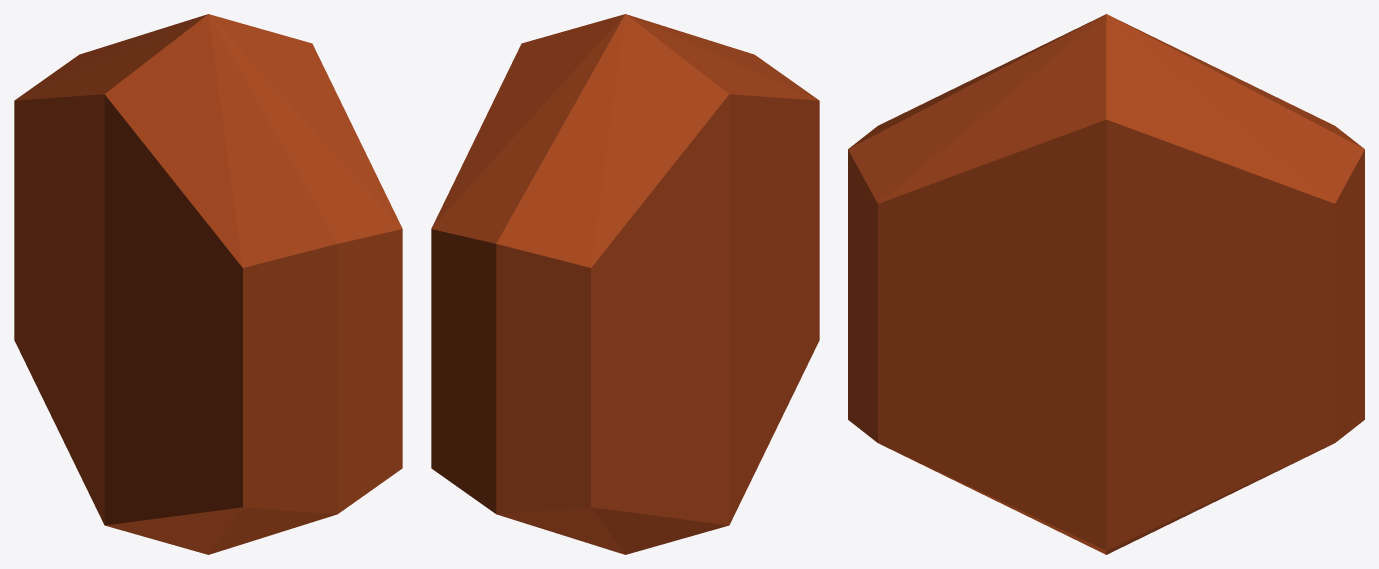
File: RedGem.obj
3 views of the same model, side by side, from view 1: azimuth 30°, elevation 25°; view 2: azimuth 150°, elevation 25°; view 3: azimuth 270°, elevation 25° (orthographic).
Visible parts, largest first — view 1: Gem1; view 2: Gem1; view 3: Gem1.
Boxes of the visible parts, x1,y1,x2,y2 form: Gem1: (14,14,402,554); Gem1: (431,14,819,554); Gem1: (848,14,1364,554).
Bounding box in the file's own units: 0.2645 × 0.6579 × 0.5697.
Materials: 1 (1 with a texture image).
